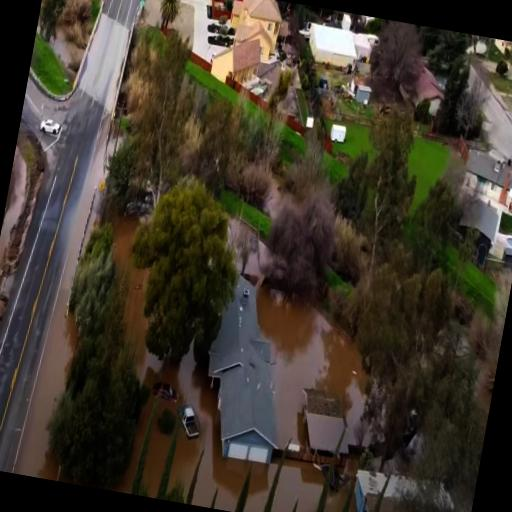flood: (12, 117, 108, 479), (253, 285, 366, 512), (143, 345, 248, 512), (110, 219, 162, 493), (0, 144, 25, 267), (245, 457, 278, 512)
house: (189, 272, 306, 468), (343, 466, 461, 512), (208, 10, 268, 94), (448, 192, 504, 270), (456, 144, 512, 222), (401, 62, 453, 134), (304, 19, 360, 78), (227, 0, 286, 52), (352, 81, 372, 108)
